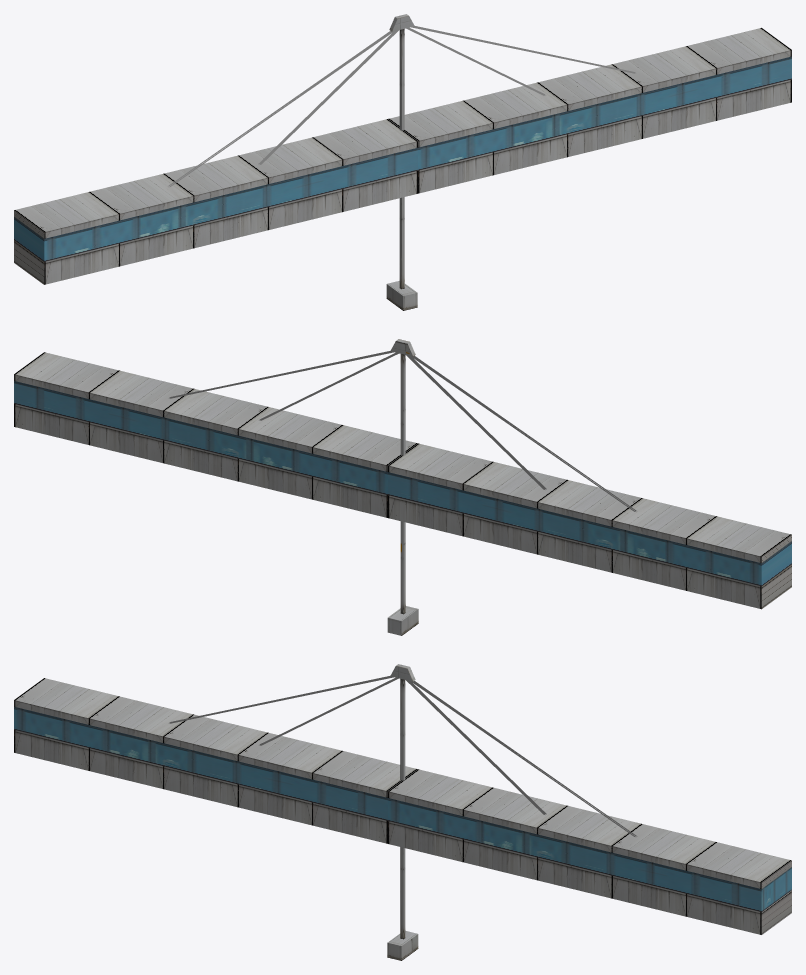
The model's file is bridge.fbx.
3 views of the same model, one above another, from view 1: azimuth 30°, elevation 25°; view 2: azimuth 150°, elevation 25°; view 3: azimuth 330°, elevation 25° (orthographic).
Parts seen in each view (by area): view 1: polySurface13; view 2: polySurface13; view 3: polySurface13.
Boxes of the visible parts, x1,y1,x2,y2 form: polySurface13: (14,14,791,310); polySurface13: (14,339,791,635); polySurface13: (14,664,791,960).
Size of the model in its own units: 34 by 12.46 by 2.38.
4 materials, 2 textured.
